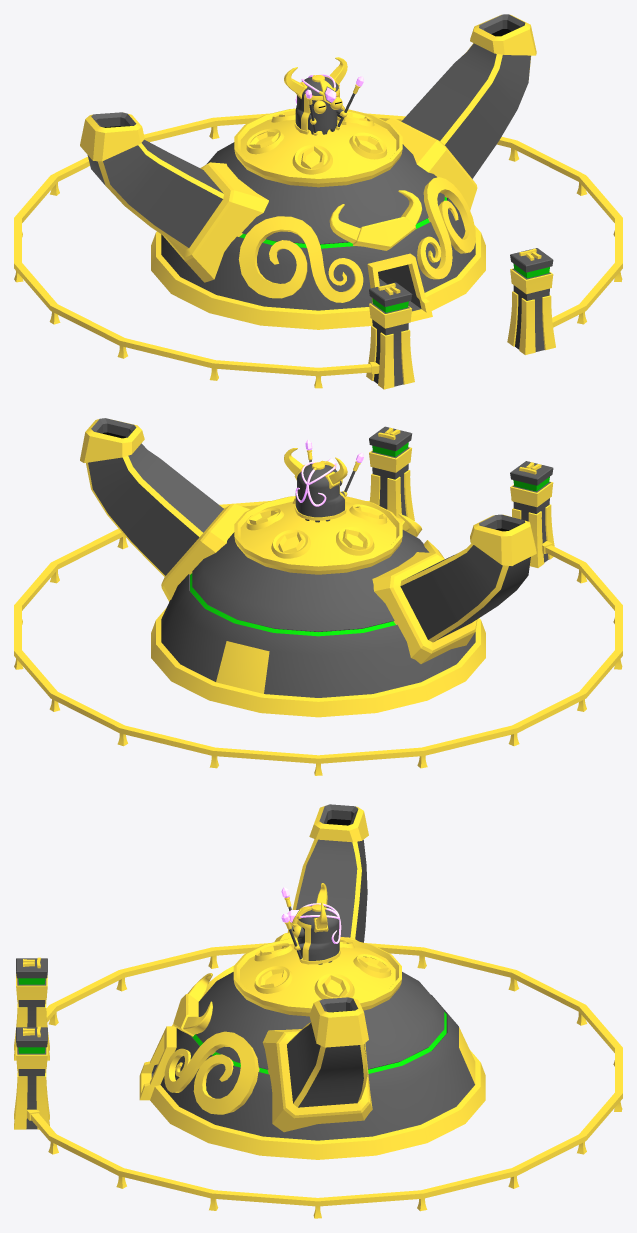
File: mage_chamber_fud.fbx
3 views of the same model, one above another, from view 1: azimuth 30°, elevation 25°; view 2: azimuth 150°, elevation 25°; view 3: azimuth 270°, elevation 25° (orthographic).
Parts seen in each view (by area): view 1: mage_chamber_fud, hornexhausts, emblems, fence, posts_FUD, gotchi_aadept, deets, horns, body; view 2: mage_chamber_fud, hornexhausts, fence, posts_FUD, emblems, gotchi_aadept, horns; view 3: mage_chamber_fud, hornexhausts, fence, emblems, posts_FUD, gotchi_aadept.
Boxes of the visible parts, x1,y1,x2,y2 form: mage_chamber_fud: [151, 119, 485, 329]; hornexhausts: [80, 14, 536, 282]; emblems: [234, 108, 475, 302]; fence: [14, 113, 622, 388]; posts_FUD: [366, 248, 555, 389]; gotchi_aadept: [294, 75, 346, 134]; deets: [307, 84, 360, 135]; horns: [284, 57, 347, 98]; body: [308, 96, 337, 134]; mage_chamber_fud: [151, 501, 485, 717]; hornexhausts: [80, 418, 536, 663]; fence: [14, 501, 622, 775]; posts_FUD: [369, 426, 554, 567]; emblems: [234, 496, 443, 570]; gotchi_aadept: [294, 460, 346, 520]; horns: [284, 448, 347, 488]; mage_chamber_fud: [139, 943, 485, 1159]; hornexhausts: [262, 804, 372, 1132]; fence: [27, 943, 622, 1218]; emblems: [164, 938, 401, 1114]; posts_FUD: [14, 957, 49, 1129]; gotchi_aadept: [293, 904, 340, 964].
Bounding box in the file's own units: 22.76 × 7.89 × 22.37.
